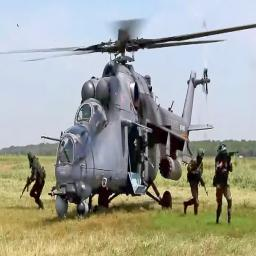helicopter: (32, 9, 237, 226)
